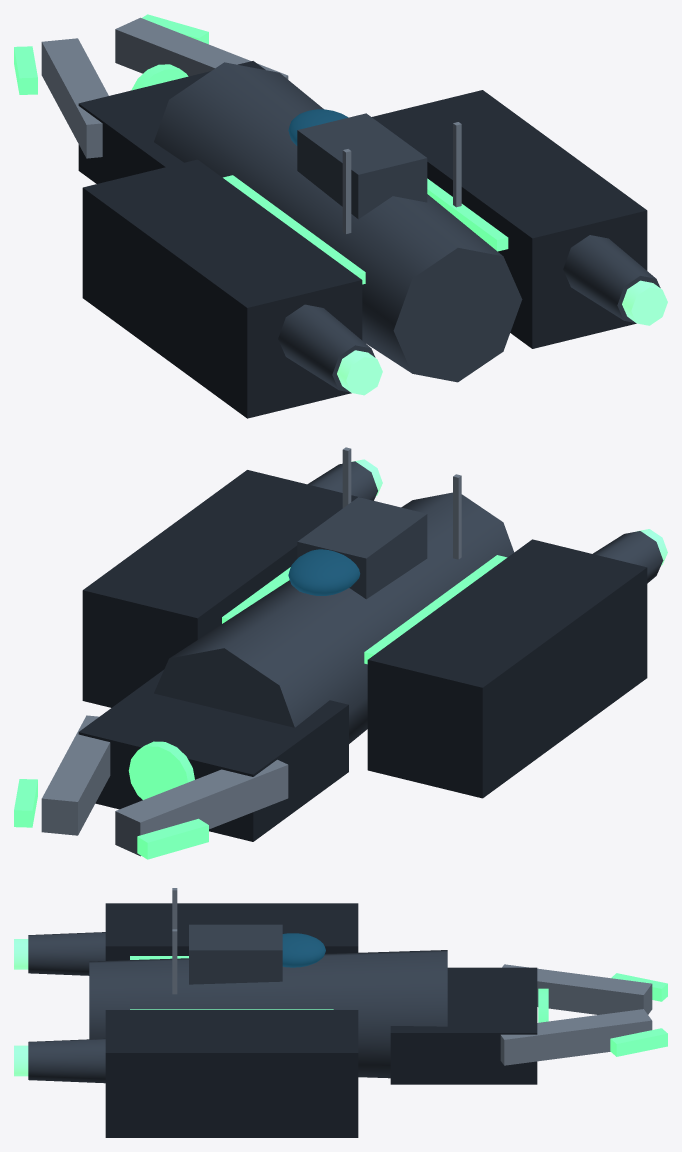
Rendered from deepmaw.glb.
The picture shows the model from 3 angles, top to bottom: view 1: azimuth 30°, elevation 25°; view 2: azimuth 150°, elevation 25°; view 3: azimuth 270°, elevation 25°; orthographic projection. The views are drawn at different scales.
Visible parts, largest first — view 1: cargo_pod_-1, industrial_core, cargo_pod_1, cockpit_block, Deepmaw_Placeholder, extraction_head, claw_-1, claw_1, engine_glow_l, engine_glow_r, cargo_light_-1, cargo_light_1 (+6 smaller); view 2: cargo_pod_-1, industrial_core, cargo_pod_1, extraction_head, cockpit_block, claw_-1, claw_1, Deepmaw_Placeholder, mining_lens, cockpit_glass, claw_tip_-1, cargo_light_-1 (+3 smaller); view 3: cargo_pod_1, industrial_core, extraction_head, cargo_pod_-1, Deepmaw_Placeholder, cockpit_block, claw_1, claw_-1, cockpit_glass, claw_tip_1, claw_tip_-1, engine_glow_r (+2 smaller).
Boxes of the visible parts, x1,y1,x2,y2 form: cargo_pod_-1: (82, 159, 362, 418); industrial_core: (154, 62, 522, 382); cargo_pod_1: (372, 90, 647, 348); cockpit_block: (297, 113, 427, 219); Deepmaw_Placeholder: (278, 235, 660, 392); extraction_head: (78, 61, 265, 183); claw_-1: (41, 38, 108, 158); claw_1: (115, 17, 288, 79); engine_glow_l: (337, 350, 382, 395); engine_glow_r: (622, 280, 667, 325); cargo_light_-1: (223, 175, 365, 284); cargo_light_1: (427, 178, 508, 251); cargo_pod_-1: (367, 539, 647, 798); industrial_core: (154, 492, 514, 743); cargo_pod_1: (82, 470, 360, 707); extraction_head: (78, 670, 348, 841); cockpit_block: (297, 497, 427, 599); claw_-1: (115, 759, 288, 856); claw_1: (41, 715, 110, 835); Deepmaw_Placeholder: (307, 461, 663, 583); mining_lens: (128, 741, 194, 799); cockpit_glass: (288, 549, 360, 595); claw_tip_-1: (137, 818, 208, 859); cargo_light_-1: (364, 555, 507, 664); cargo_pod_1: (105, 1010, 358, 1137); industrial_core: (89, 950, 447, 1078); extraction_head: (390, 967, 537, 1084); cargo_pod_-1: (105, 903, 358, 960); Deepmaw_Placeholder: (28, 932, 105, 1083); cockpit_block: (189, 924, 282, 984); claw_1: (500, 1009, 652, 1065); claw_-1: (502, 964, 652, 1014); cockpit_glass: (282, 933, 325, 967); claw_tip_1: (610, 1028, 667, 1056); claw_tip_-1: (611, 973, 667, 1001); engine_glow_r: (14, 1045, 28, 1076).
Size of the model in its own units: 8.7 by 4.55 by 16.06.
